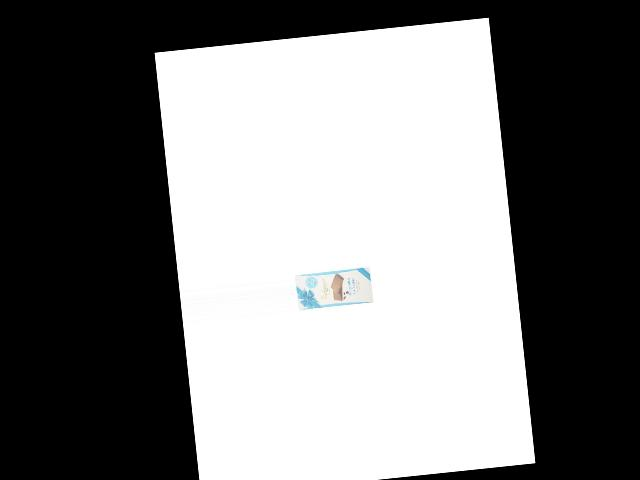chocolate: (293, 263, 375, 315)
